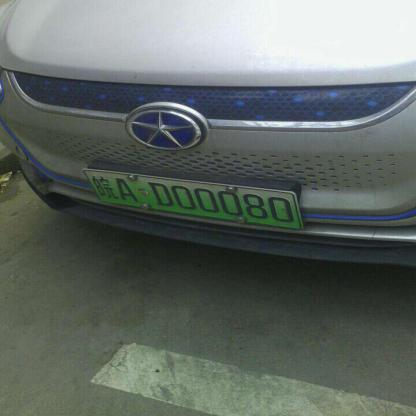lp: (82, 170, 302, 227)
